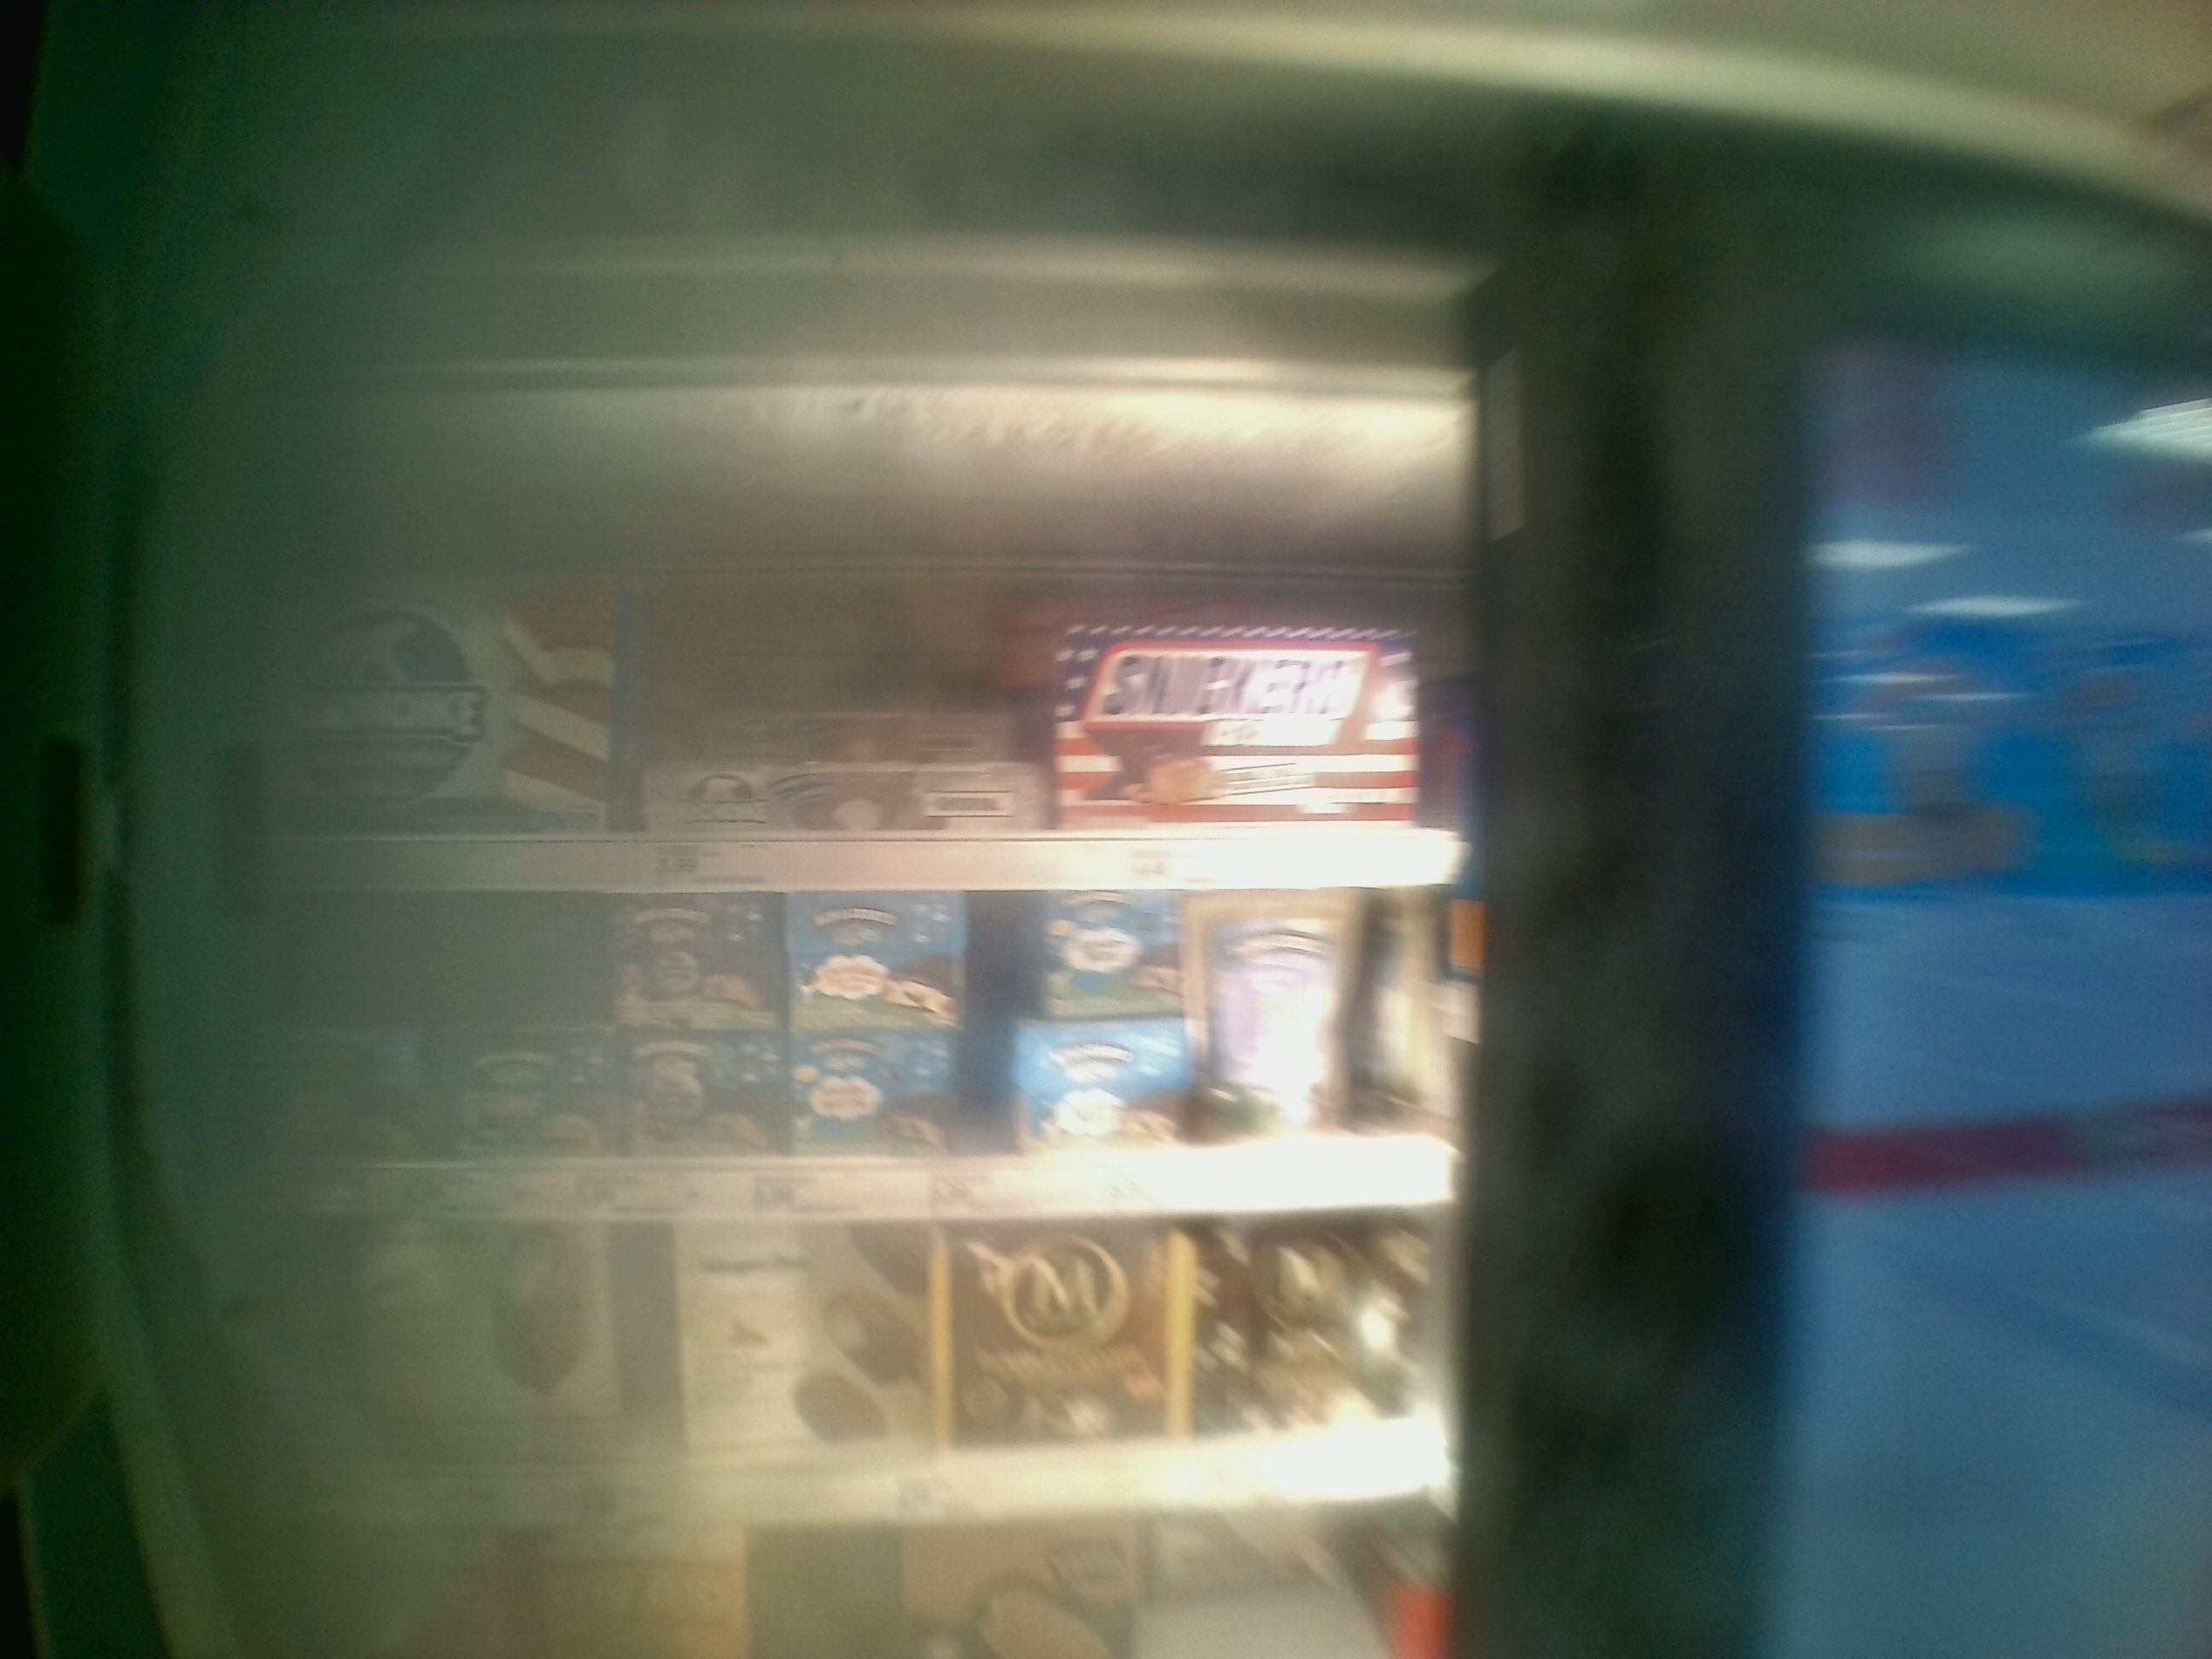ice-cream-shelf: (246, 436, 1480, 887), (246, 884, 1480, 1218), (239, 1215, 1465, 1516)
